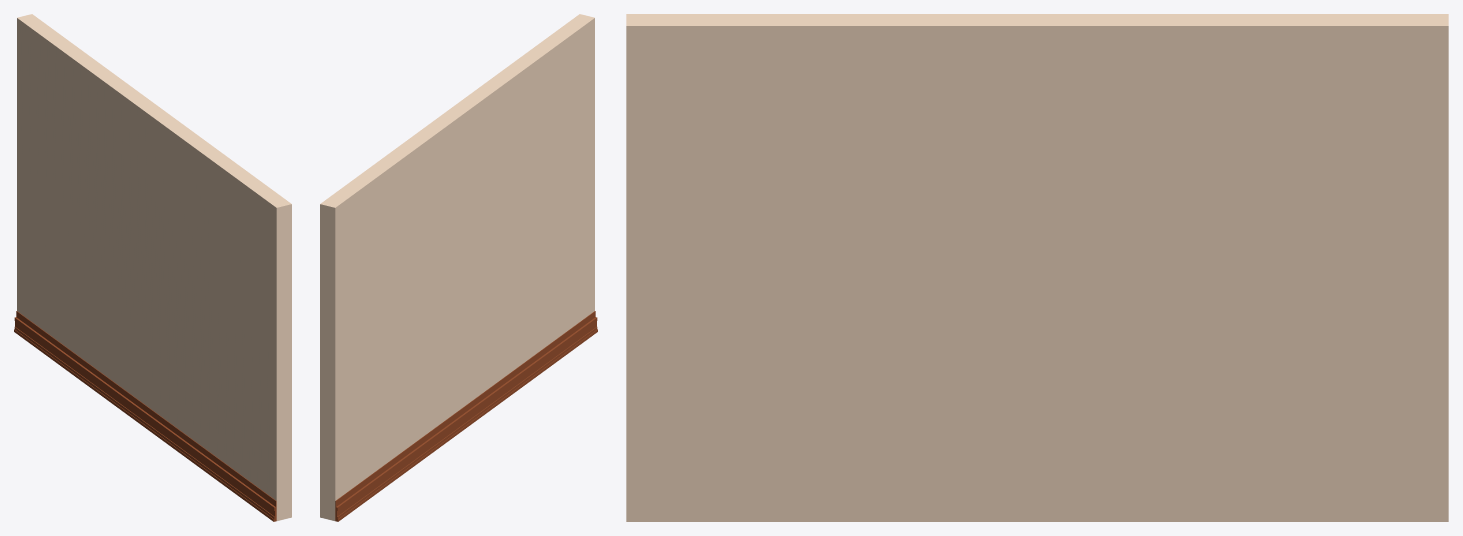
File: BigWall.dae
The picture shows the model from 3 angles, left to right: view 1: azimuth 30°, elevation 25°; view 2: azimuth 150°, elevation 25°; view 3: azimuth 270°, elevation 25°; orthographic projection. The views are drawn at different scales.
Visible parts, largest first — view 1: Group_11 (×2); view 2: Group_11 (×2); view 3: Group_11.
Part boxes in pixels (left/top/right/bottom): Group_11 (×2): left=14, top=14, right=291, bottom=521; Group_11 (×2): left=320, top=14, right=597, bottom=521; Group_11: left=626, top=14, right=1448, bottom=521.
Bounding box in the file's own units: 8.35 × 206 × 137.
